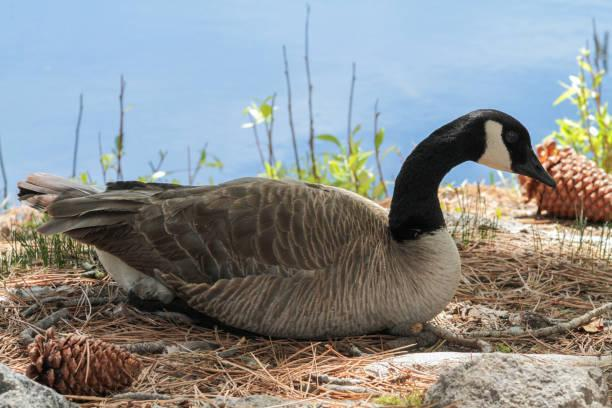Canadian-Goose: (31, 105, 554, 344)
